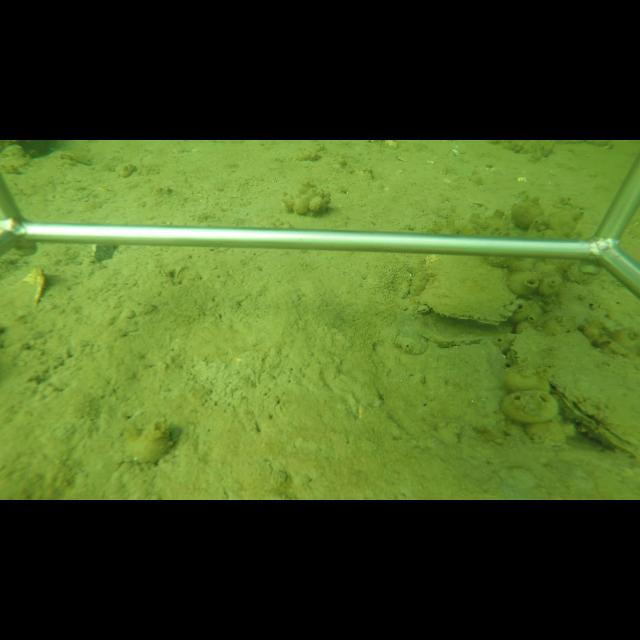Oyster-Closed: (543, 376, 640, 465), (414, 255, 522, 327), (509, 326, 555, 368)
